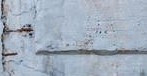Crack: (1, 1, 6, 73)
Exposed reinforcement: (5, 28, 34, 33), (1, 51, 18, 57)
